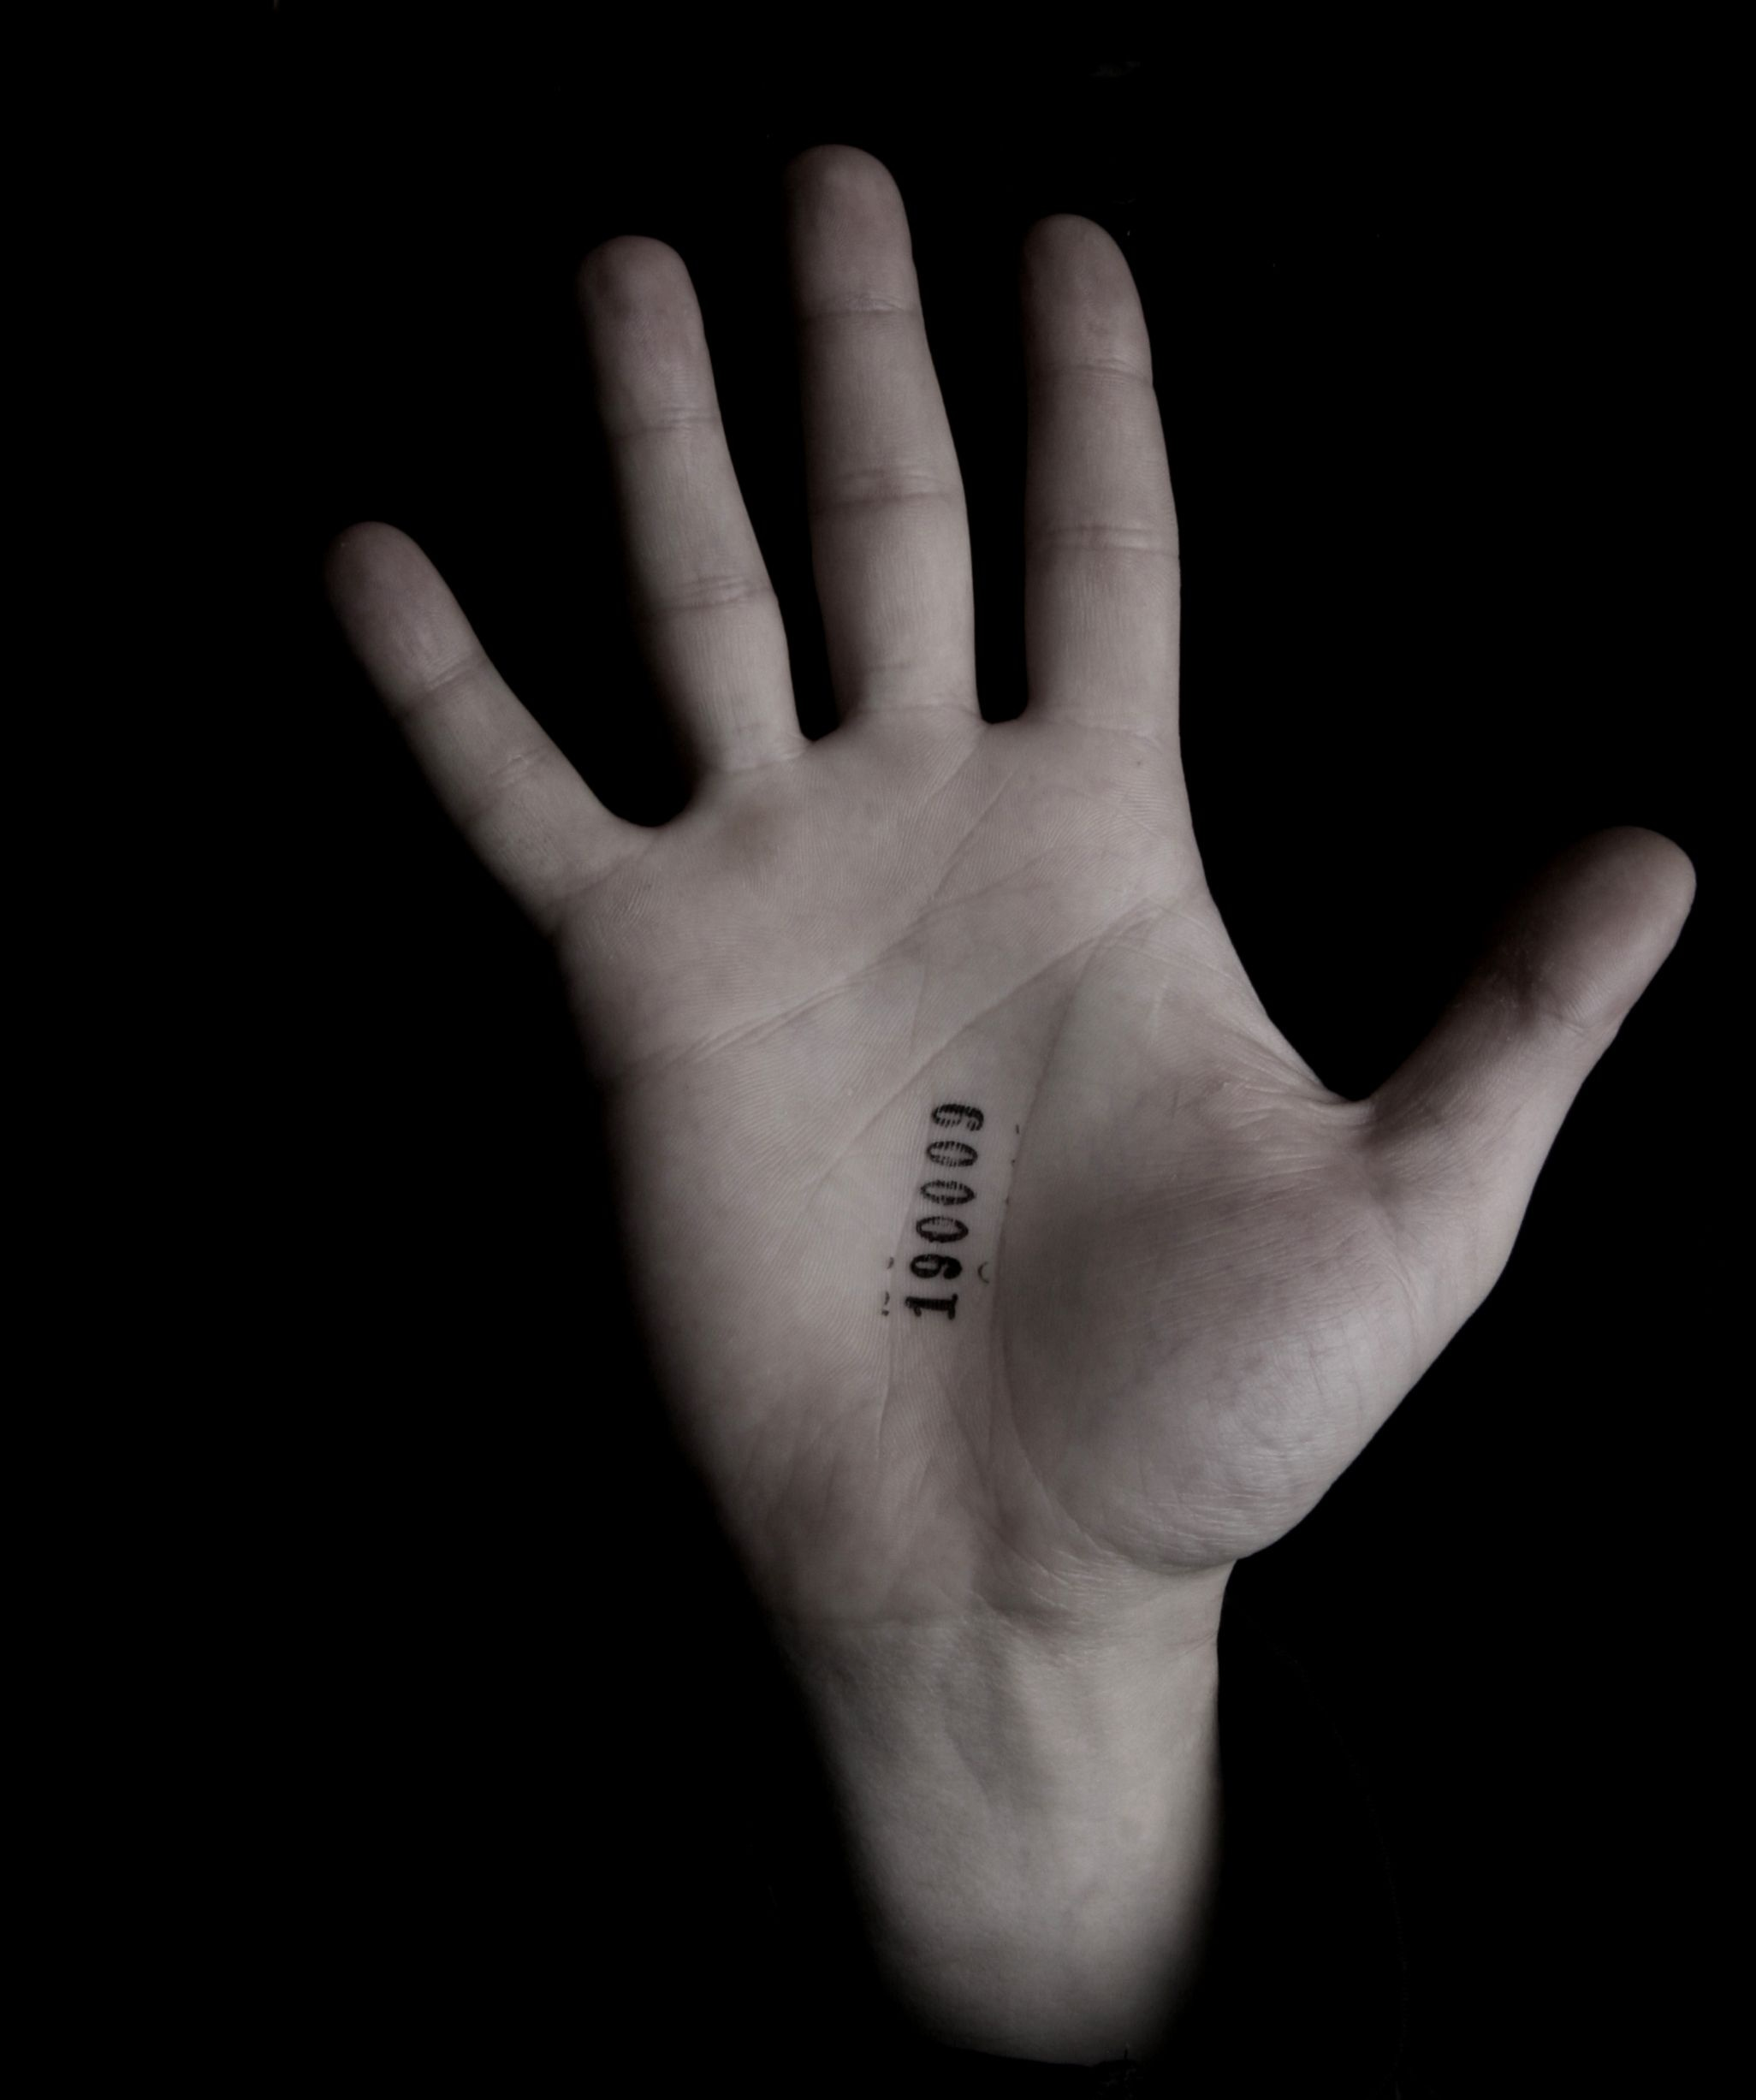hand: (303, 129, 1716, 1708)
